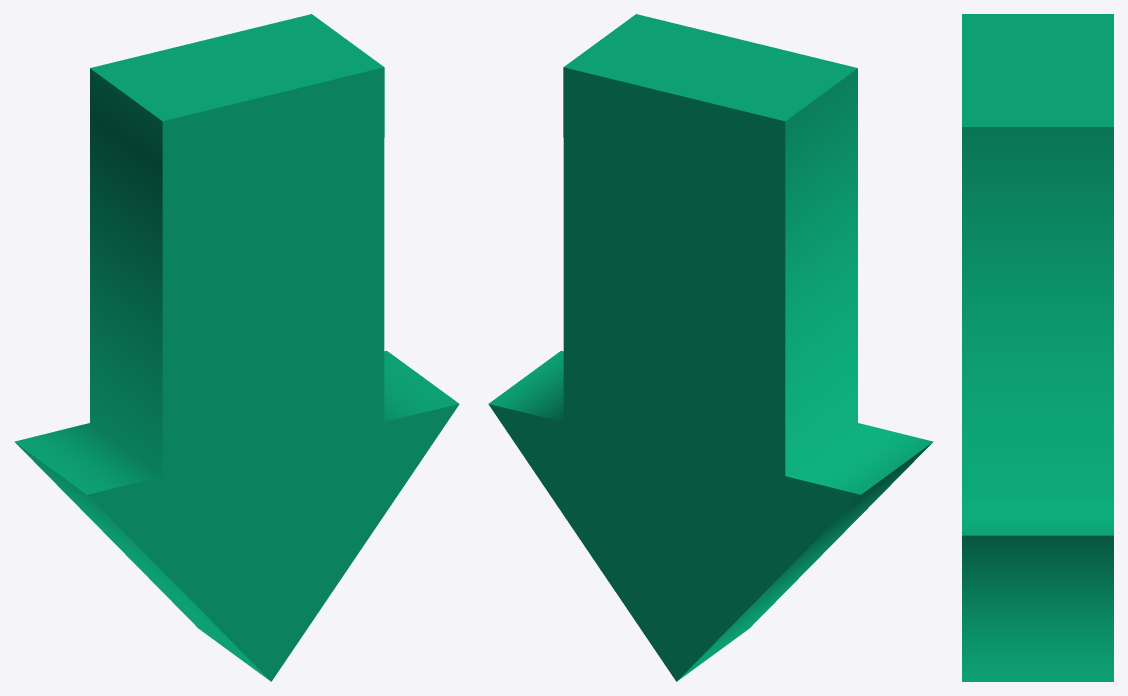
File: arrow pointer.FBX
3 views of the same model, side by side, from view 1: azimuth 30°, elevation 25°; view 2: azimuth 150°, elevation 25°; view 3: azimuth 270°, elevation 25° (orthographic). The views are drawn at different scales.
Parts seen in each view (by area): view 1: Box01; view 2: Box01; view 3: Box01.
Boxes of the visible parts, x1,y1,x2,y2 form: Box01: (14, 14, 459, 681); Box01: (488, 14, 933, 681); Box01: (962, 14, 1113, 681).
Bounding box in the file's own units: 128 × 193 × 43.38.
